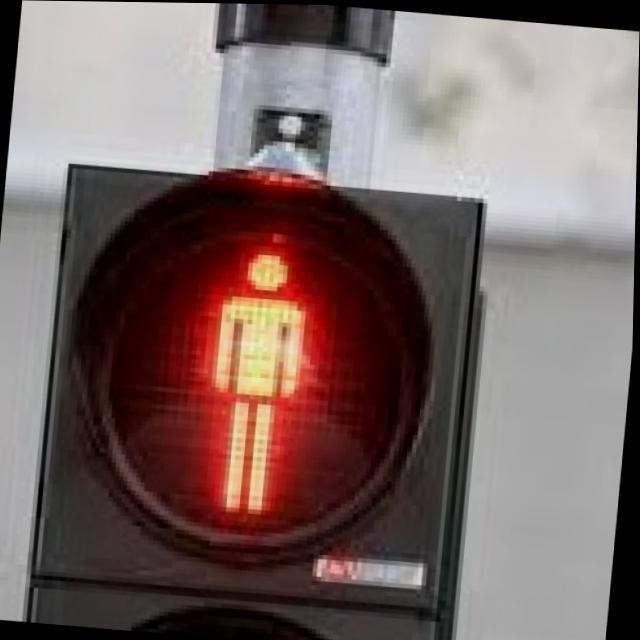red_light: (179, 226, 348, 531)
